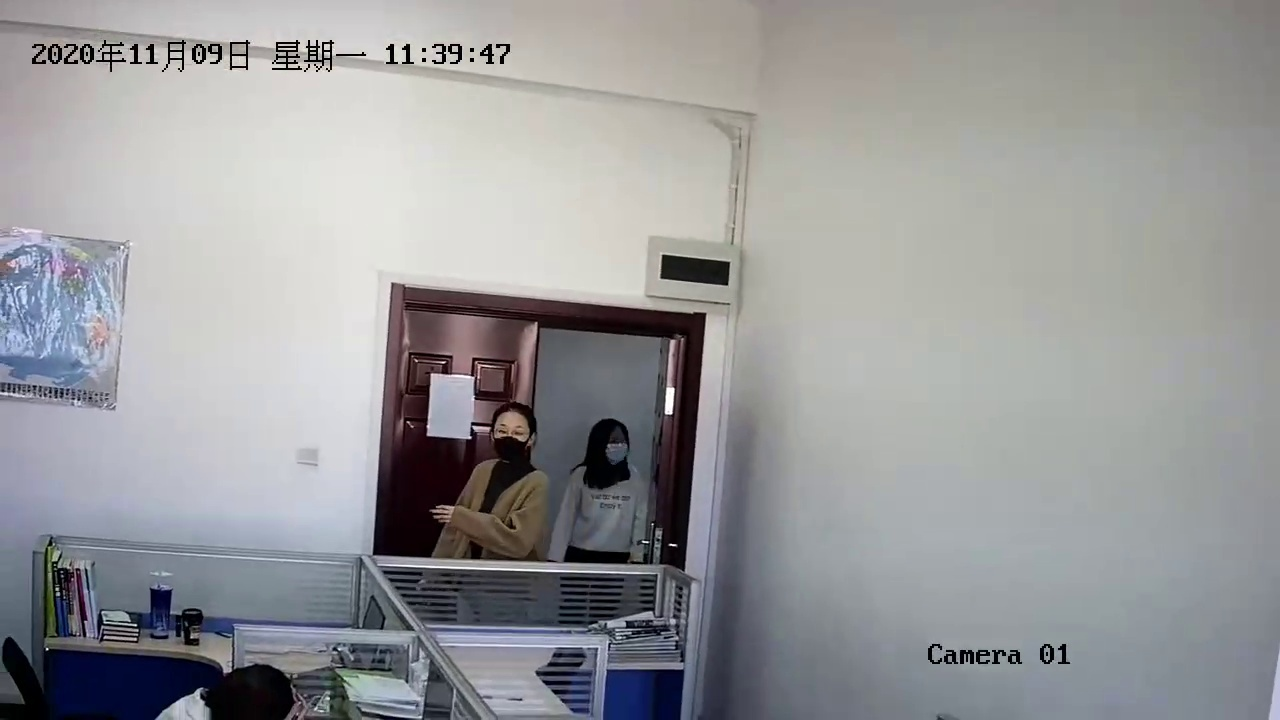mask: (489, 400, 537, 463), (589, 414, 635, 467)
